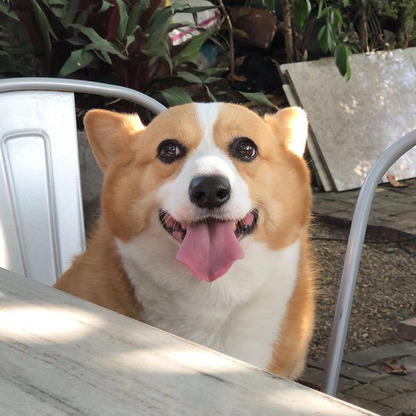Corgi: (67, 91, 338, 344)
